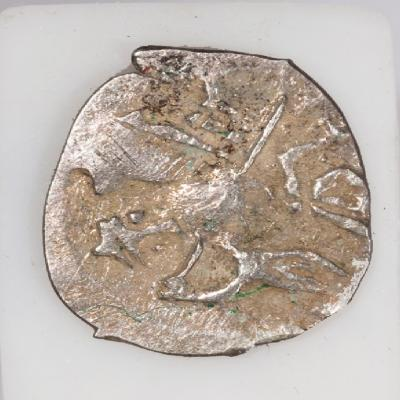numismatics: (42, 46, 373, 358)
